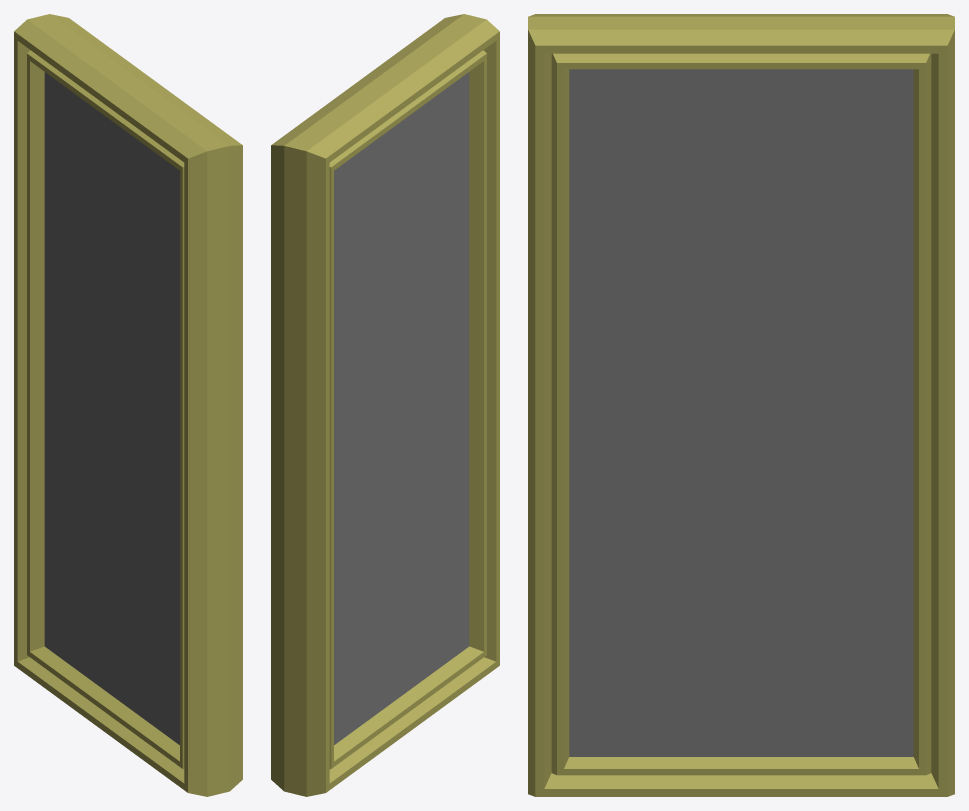
File: ME_PaintingDoor.fbx
The picture shows the model from 3 angles, left to right: view 1: azimuth 30°, elevation 25°; view 2: azimuth 150°, elevation 25°; view 3: azimuth 270°, elevation 25°; orthographic projection. The views are drawn at different scales.
Visible parts, largest first — view 1: ME_PaintingDoor; view 2: ME_PaintingDoor; view 3: ME_PaintingDoor.
Boxes of the visible parts, x1,y1,x2,y2 form: ME_PaintingDoor: (14, 14, 242, 796); ME_PaintingDoor: (271, 14, 499, 796); ME_PaintingDoor: (528, 14, 954, 796).
Bounding box in the file's own units: 3001 × 33749 × 17070.
